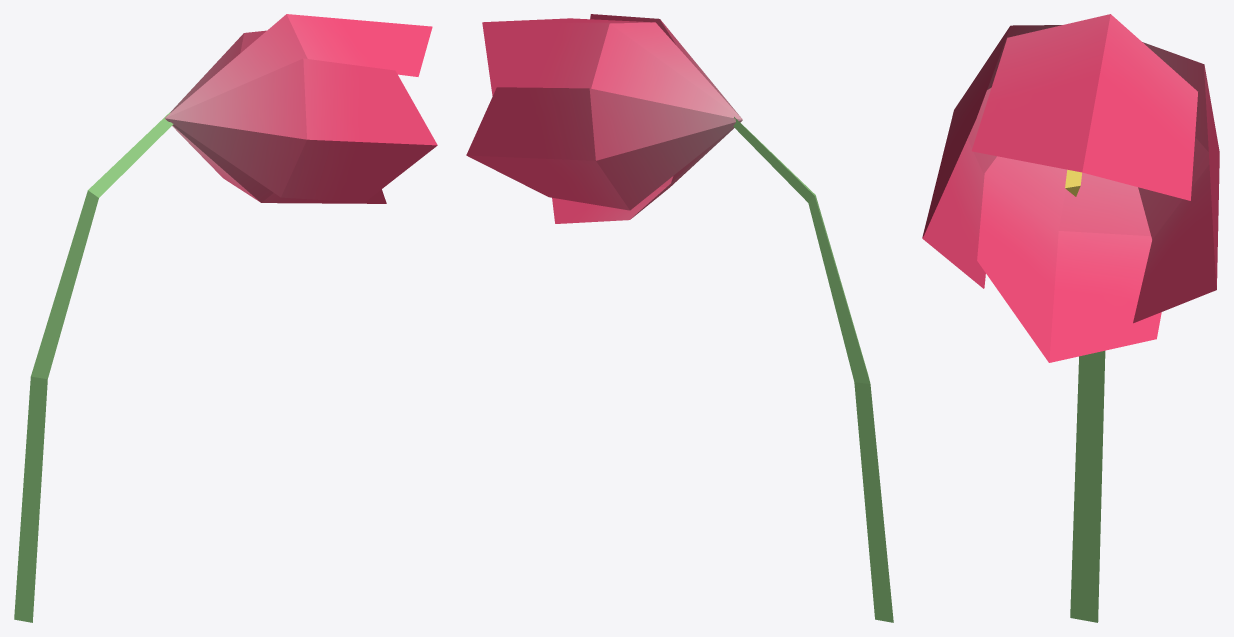
File: Flower_f_TwoS_06.fbx
The picture shows the model from 3 angles, left to right: view 1: azimuth 30°, elevation 25°; view 2: azimuth 150°, elevation 25°; view 3: azimuth 270°, elevation 25°; orthographic projection. The views are drawn at different scales.
Visible parts, largest first — view 1: Flower_f_TwoS_06; view 2: Flower_f_TwoS_06; view 3: Flower_f_TwoS_06.
Part boxes in pixels (x1=…): Flower_f_TwoS_06: x1=14, y1=14, x2=437, y2=622; Flower_f_TwoS_06: x1=466, y1=14, x2=893, y2=622; Flower_f_TwoS_06: x1=922, y1=14, x2=1219, y2=622.
Bounding box in the file's own units: 27.84 × 34.26 × 11.56.
